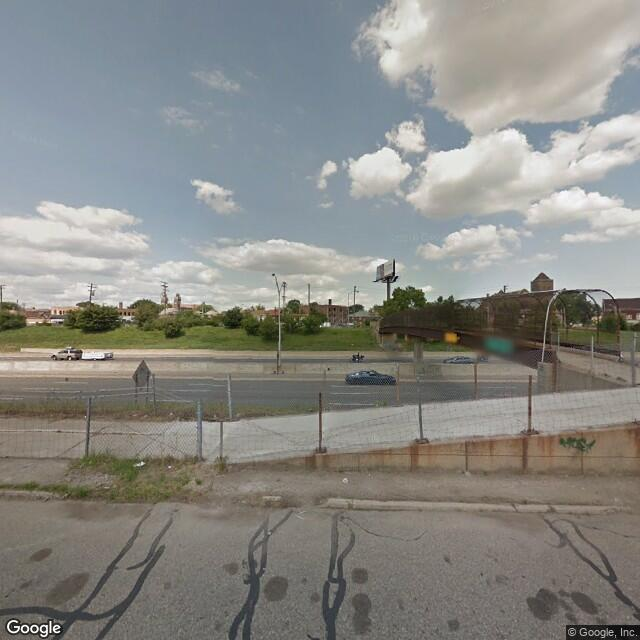litter: (131, 457, 149, 471), (338, 475, 353, 488), (163, 459, 175, 473)
